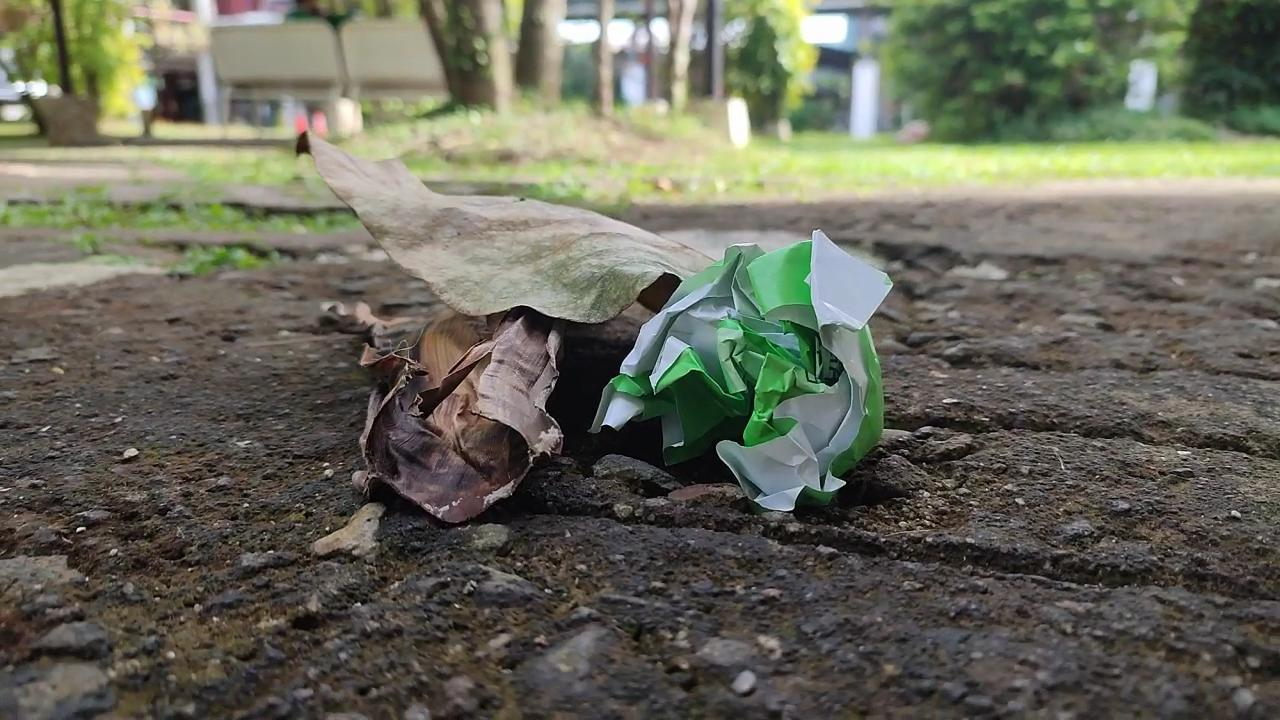Paper: (571, 216, 922, 533)
